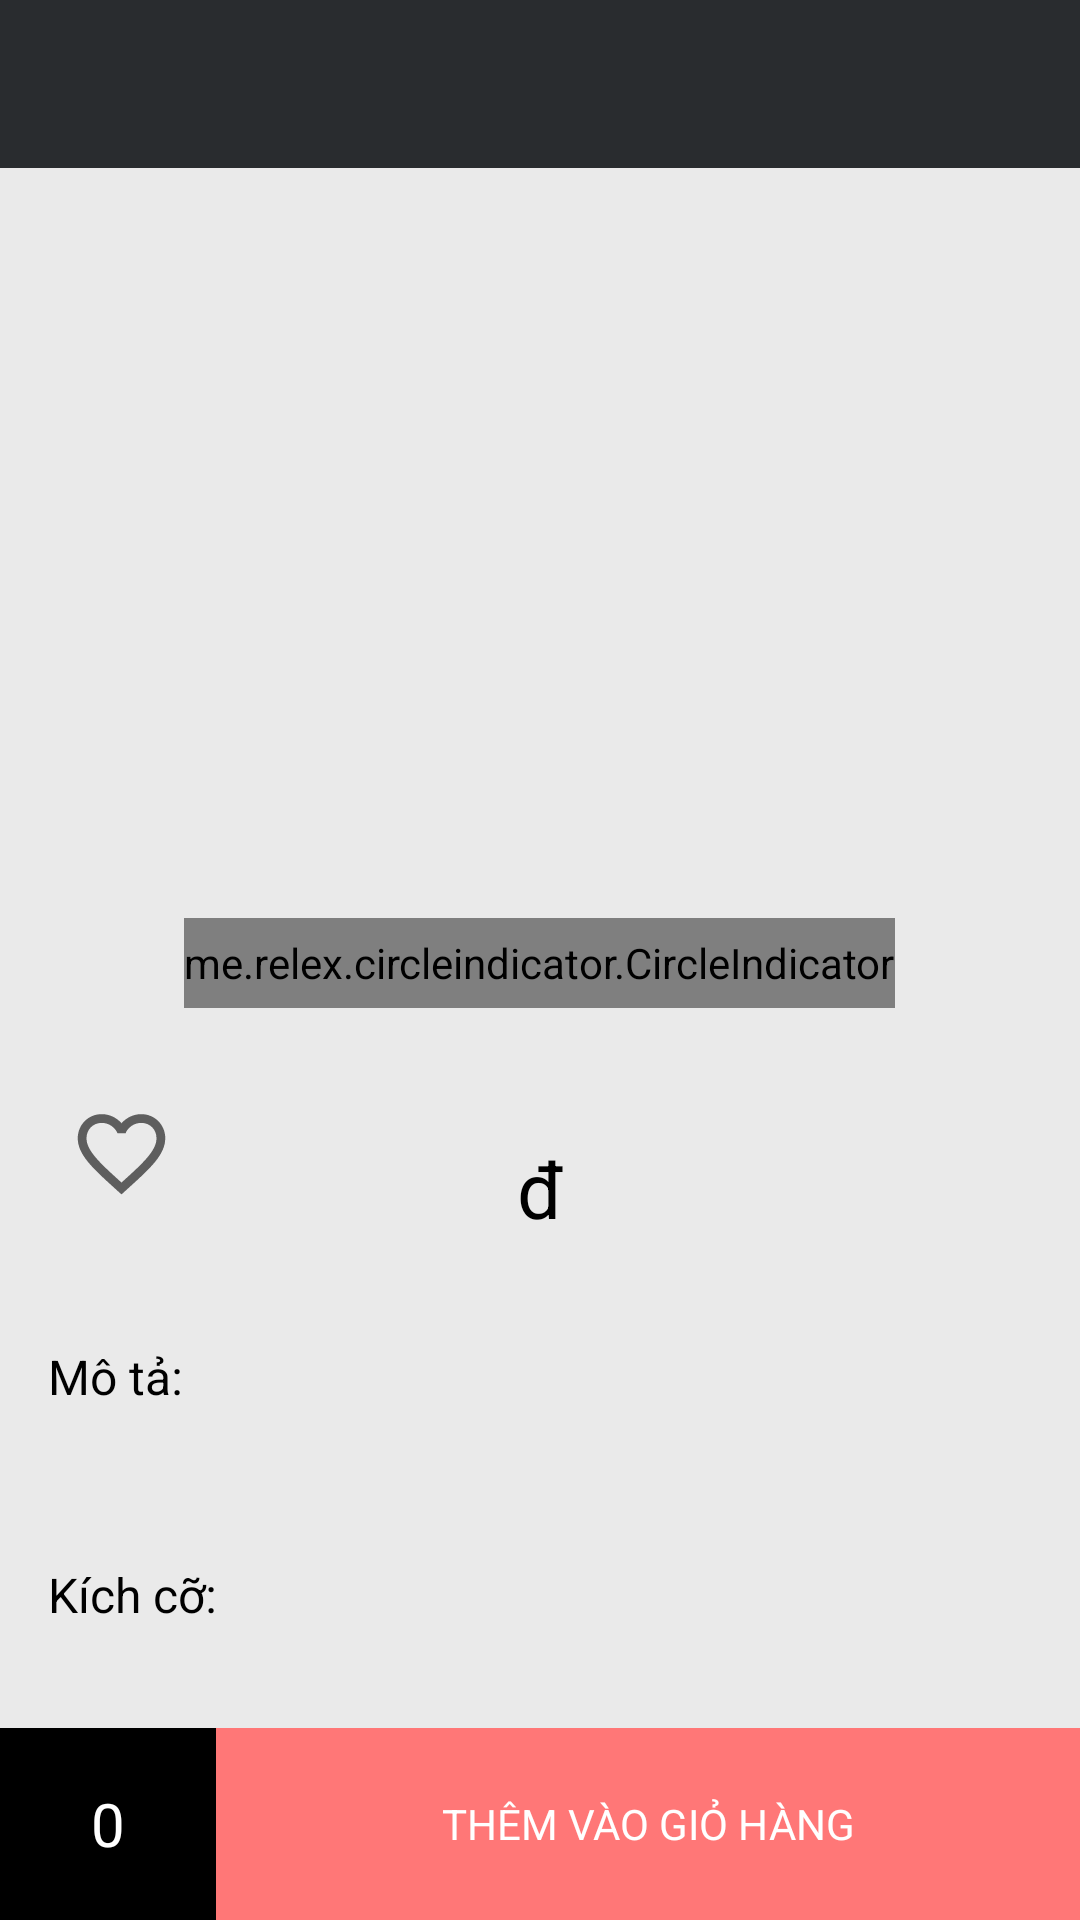

Screen size 1080x1920. Icon name, then its box in pixels as bbox(x1, y1, x2, y2):
unlike: bbox(77, 1114, 166, 1194)
